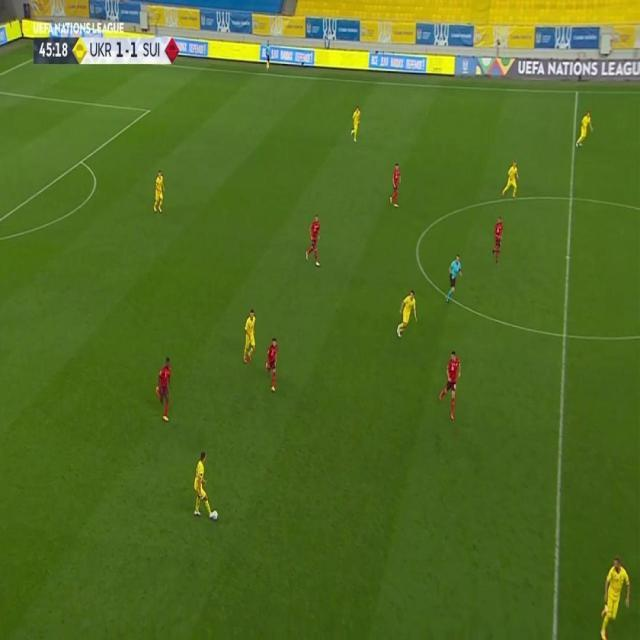ball: (212, 509, 218, 522)
player: (596, 555, 634, 640), (437, 350, 462, 420), (192, 453, 213, 520), (155, 356, 174, 424), (394, 289, 418, 341), (306, 213, 323, 270), (242, 309, 258, 366), (501, 158, 521, 200), (265, 337, 278, 393), (574, 111, 593, 149), (491, 217, 505, 267), (388, 160, 402, 210), (152, 170, 166, 215), (350, 106, 362, 143)
referee: (444, 253, 463, 304), (264, 39, 272, 74)
